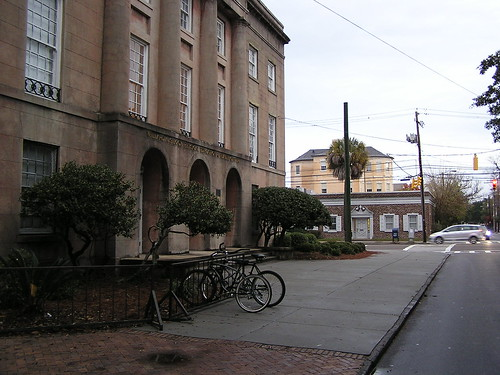bicicle: (198, 246, 285, 315), (193, 256, 266, 310)
building: (1, 1, 286, 250), (289, 143, 431, 251)
car: (426, 216, 493, 240)
sidewalk: (185, 252, 427, 375)
sky: (288, 1, 497, 153)
street: (433, 245, 500, 375)
tree: (22, 163, 150, 268), (125, 192, 214, 295), (254, 187, 335, 255)
